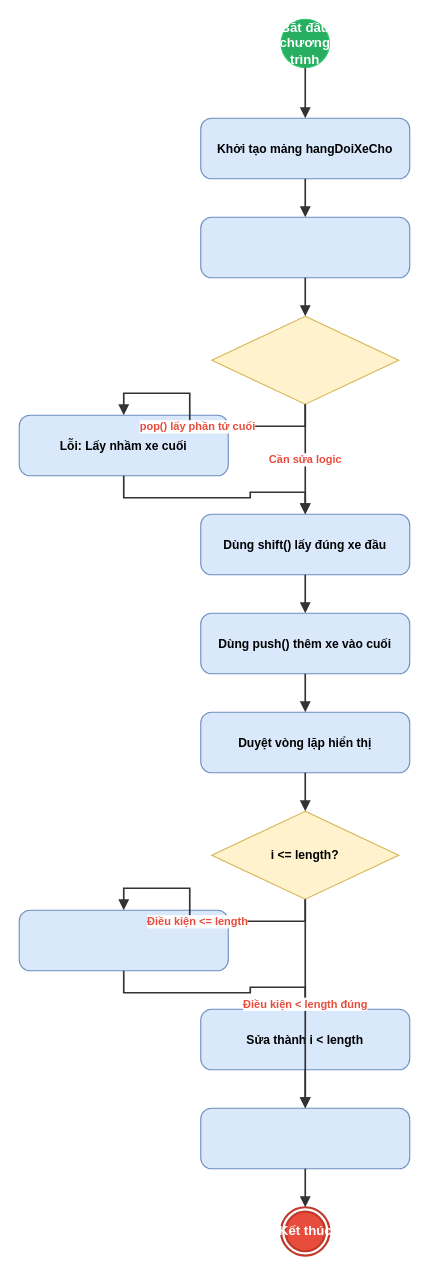
Image size: 429x1276. Some labels were removed from this diagram. Each missing label, with the box of its shape:
Gọi hangDoiXeCho.pop() lấy xe: (200, 216, 410, 278)
In danh sách lên bảng LED: (200, 1107, 410, 1169)
Lỗi: In ra Xe undefined: (18, 909, 228, 971)
pop() lấy cuối hay đầu?: (211, 315, 399, 404)
